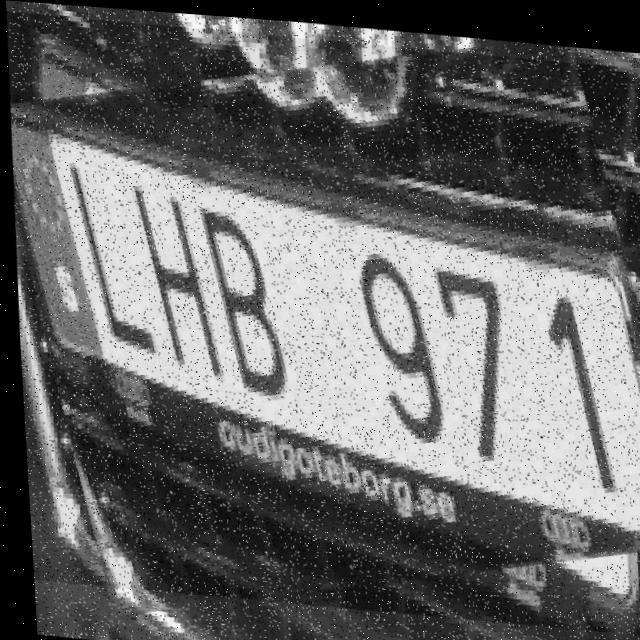LicensePlate: (0, 10, 640, 627)
